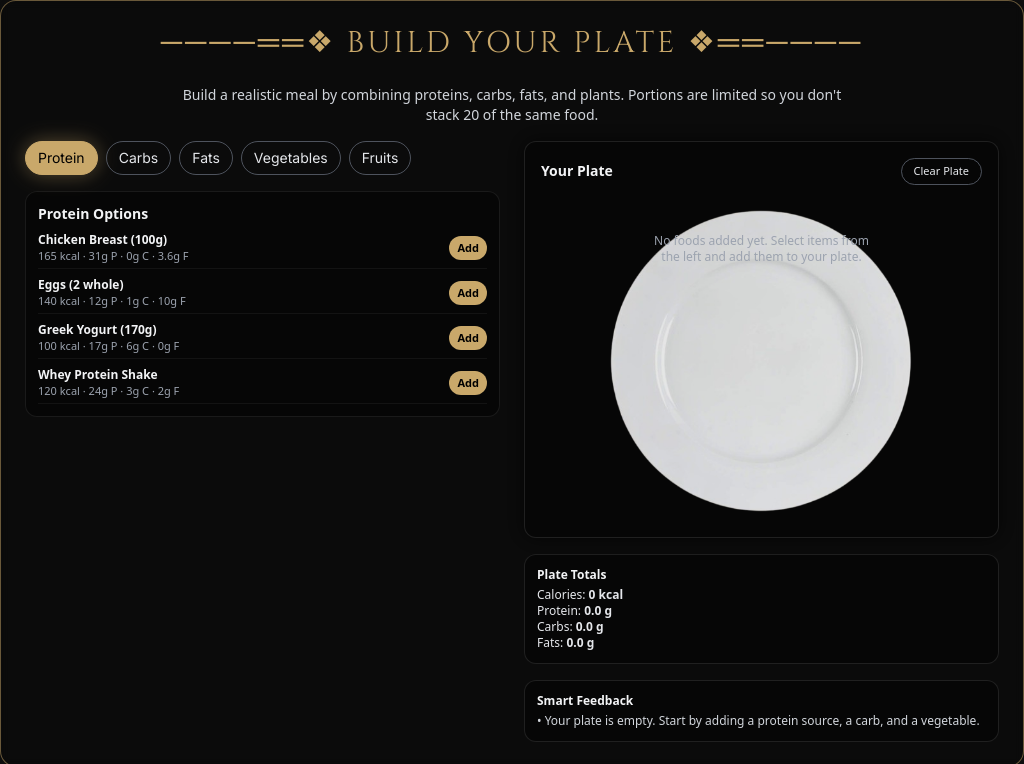
it: BuildPlateSection limits › stops at 5 portions of the same food
The image size is (1024, 764).
Click the button "Add" in the row of "Chicken Breast (100g)": coordinates (468, 248) [450,236,487,260]
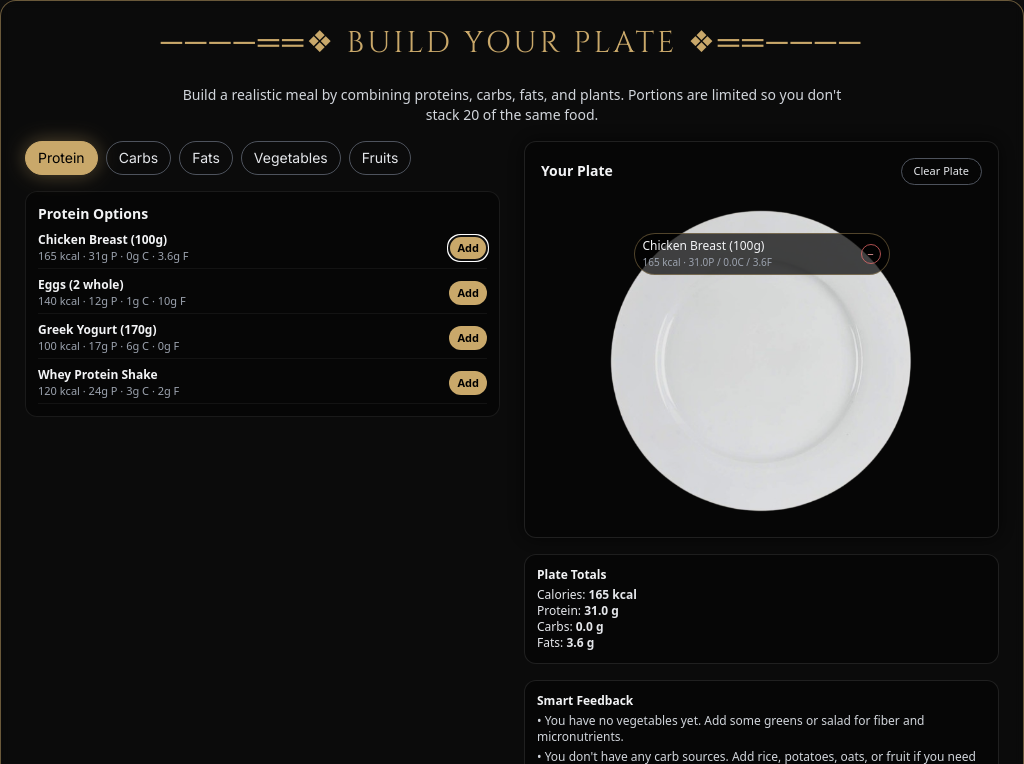
Click the 1st button "Add": coordinates (468, 248) [450,236,487,260]
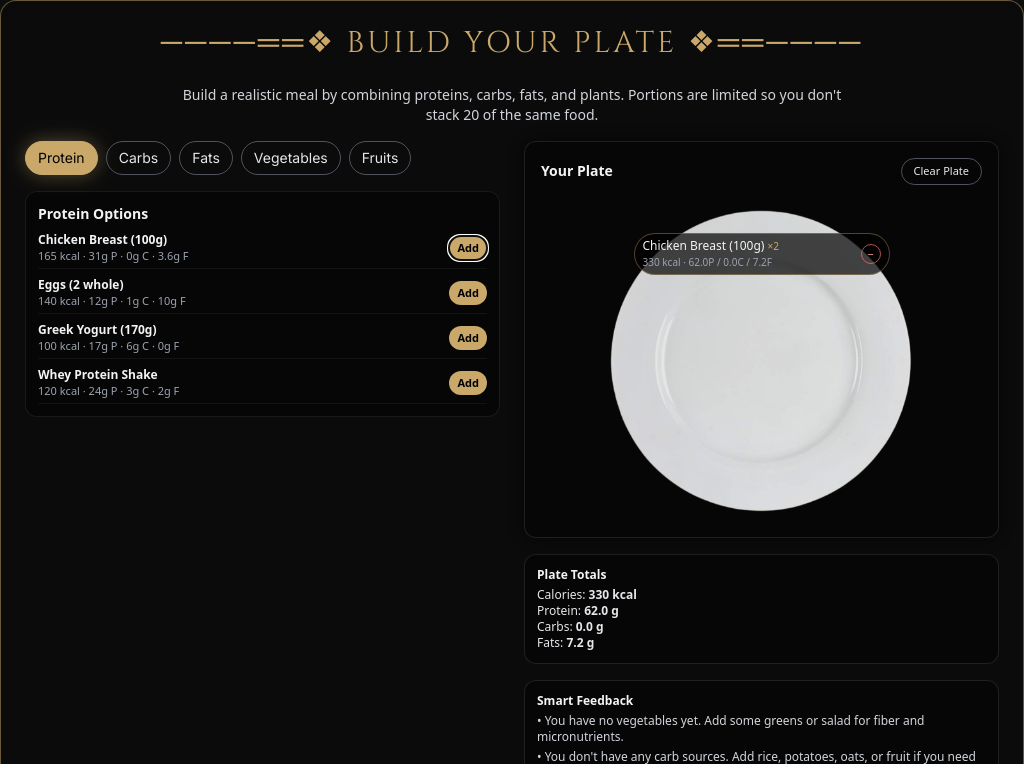
Click the button "Add" in the row of "165": coordinates (468, 248) [450,236,487,260]
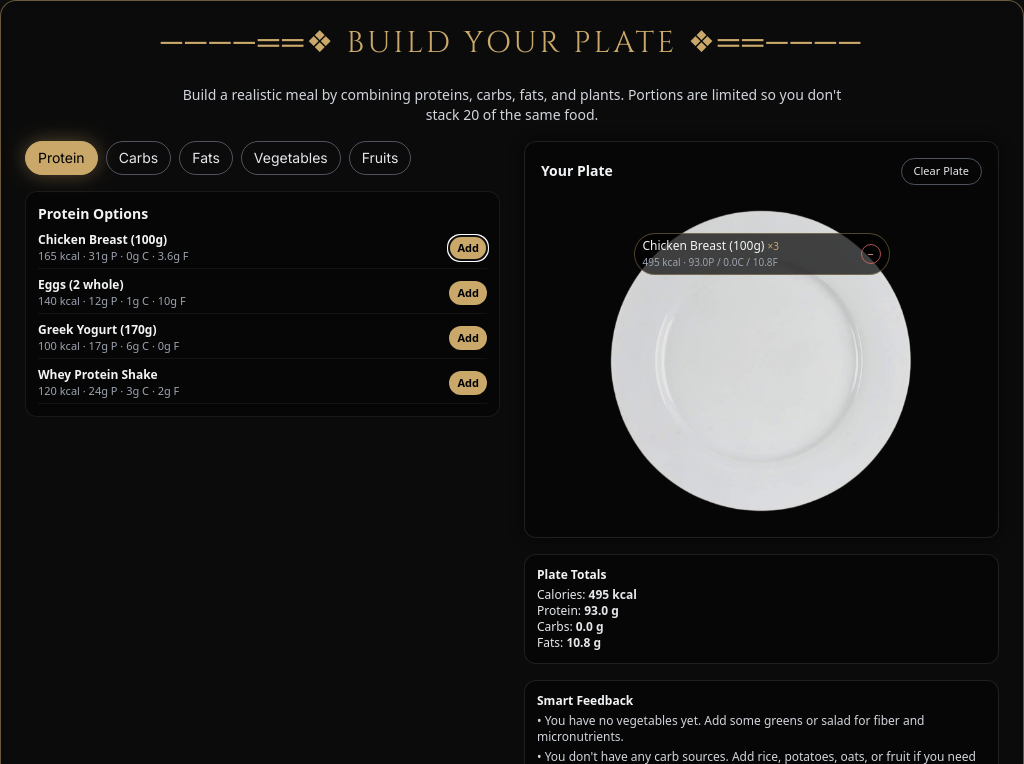
Click the button "Add" in the row of "165": coordinates (468, 248) [450,236,487,260]
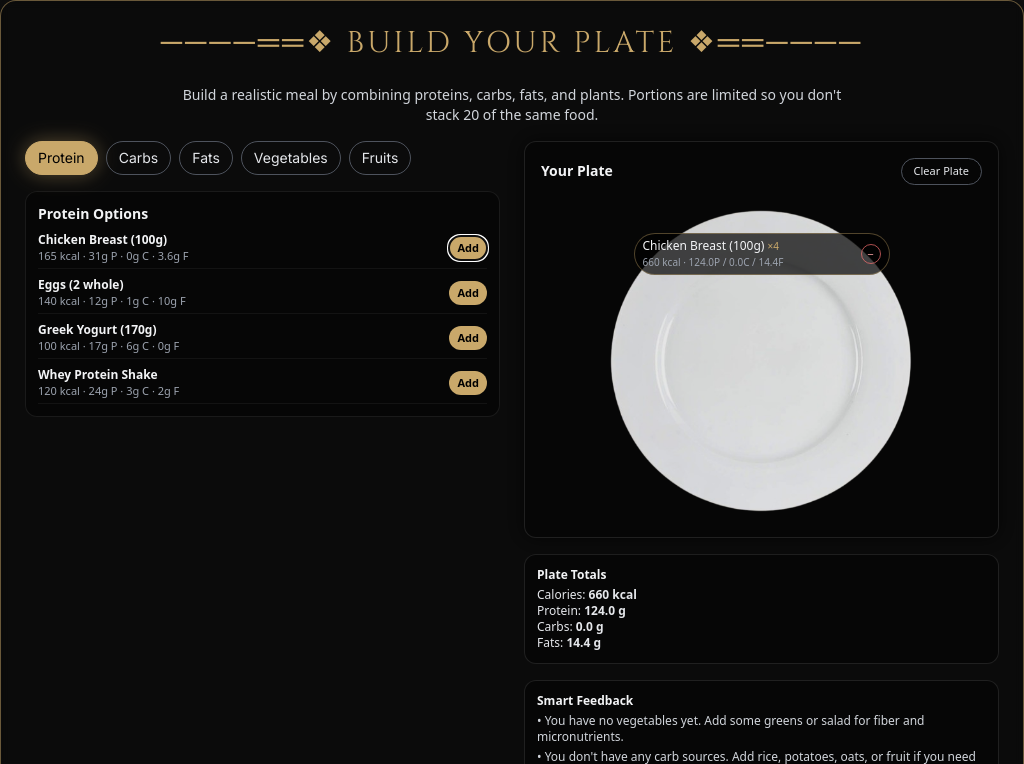
Click the button "Add" in the row of "165": coordinates (468, 248) [450,236,487,260]
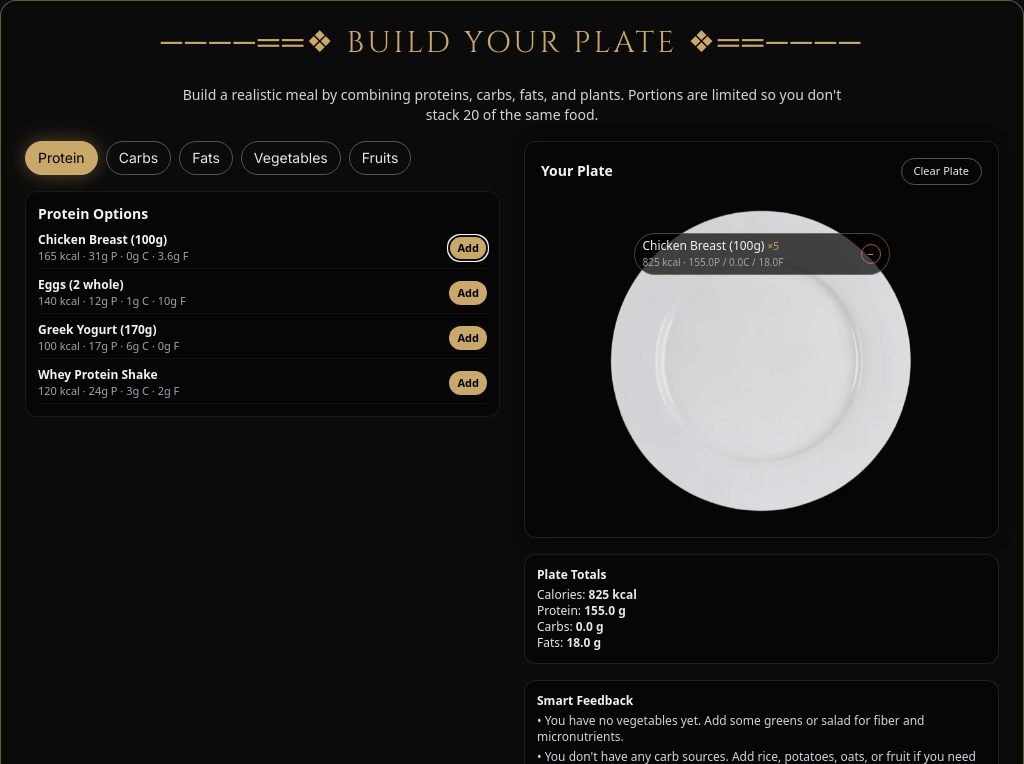
Expected: the text "already added" is not shown
Click the button "Add" in the row of "165": coordinates (468, 248) [450,236,487,260]
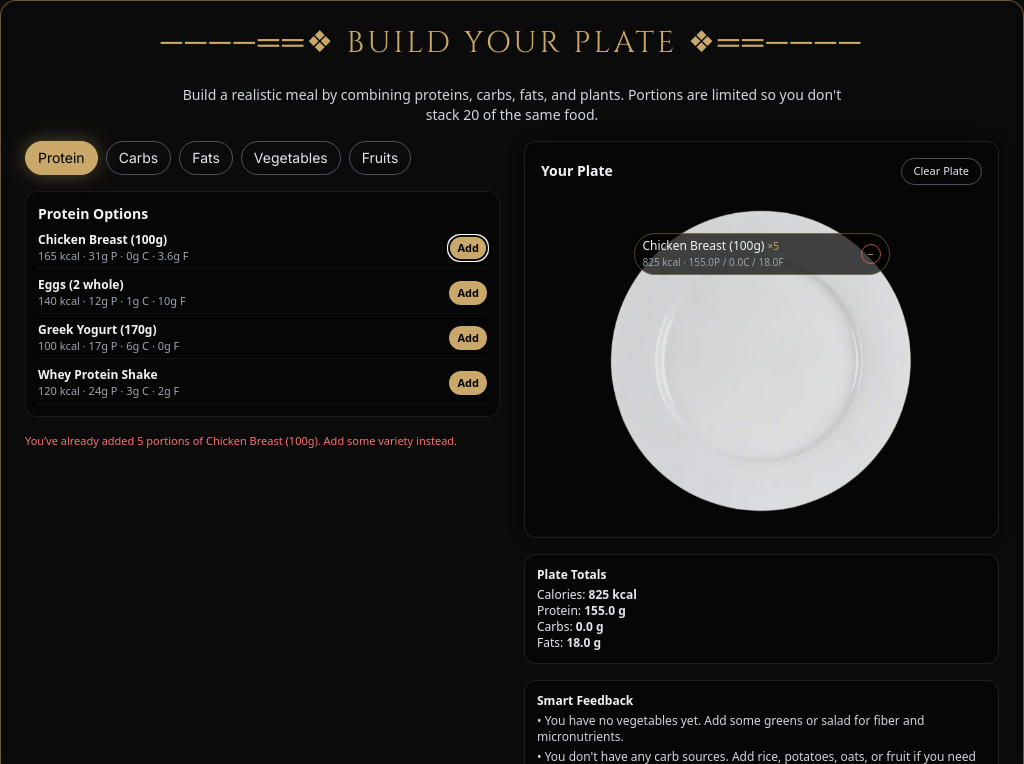
Now the text "825 kcal" is shown, box [589,586,637,602]
Now the text "already added 5 portions of Chicken Breast (100g)" is shown, box [25,433,457,448]
